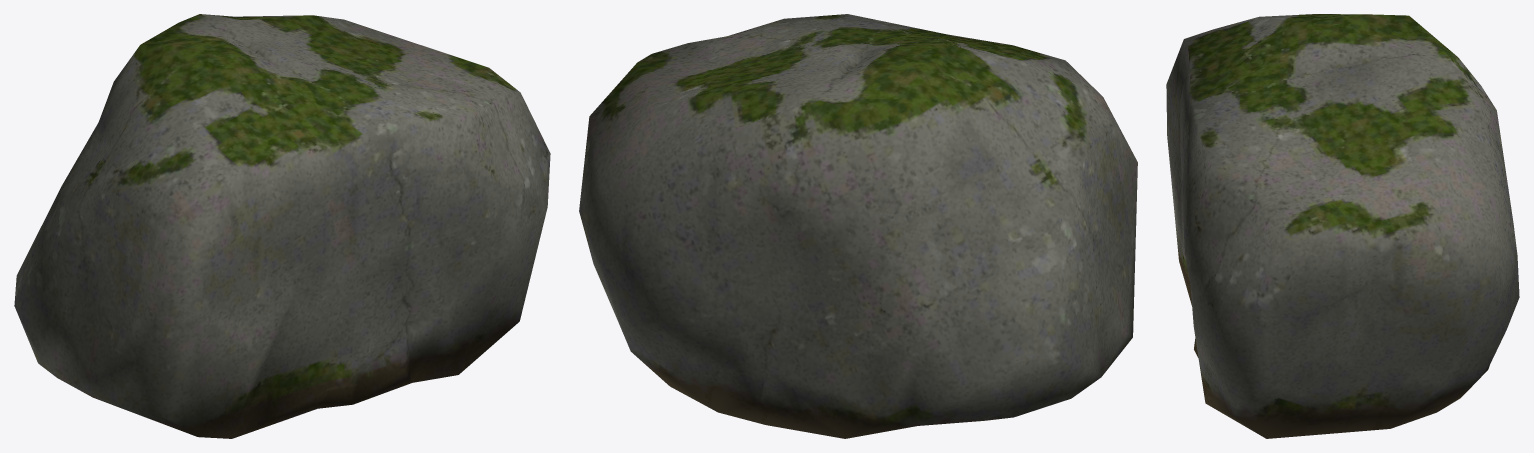
Rendered from GraniteBoulder.glb.
3 views of the same model, side by side, from view 1: azimuth 30°, elevation 25°; view 2: azimuth 150°, elevation 25°; view 3: azimuth 270°, elevation 25° (orthographic). The views are drawn at different scales.
Visible parts, largest first — view 1: granite-boulder; view 2: granite-boulder; view 3: granite-boulder.
Part boxes in pixels (<box>): granite-boulder: <box>14,14,550,438</box>; granite-boulder: <box>579,14,1137,438</box>; granite-boulder: <box>1166,14,1519,438</box>.
Size of the model in its own units: 1.56 by 0.9897 by 1.06.
Materials: 1 (1 with a texture image).
